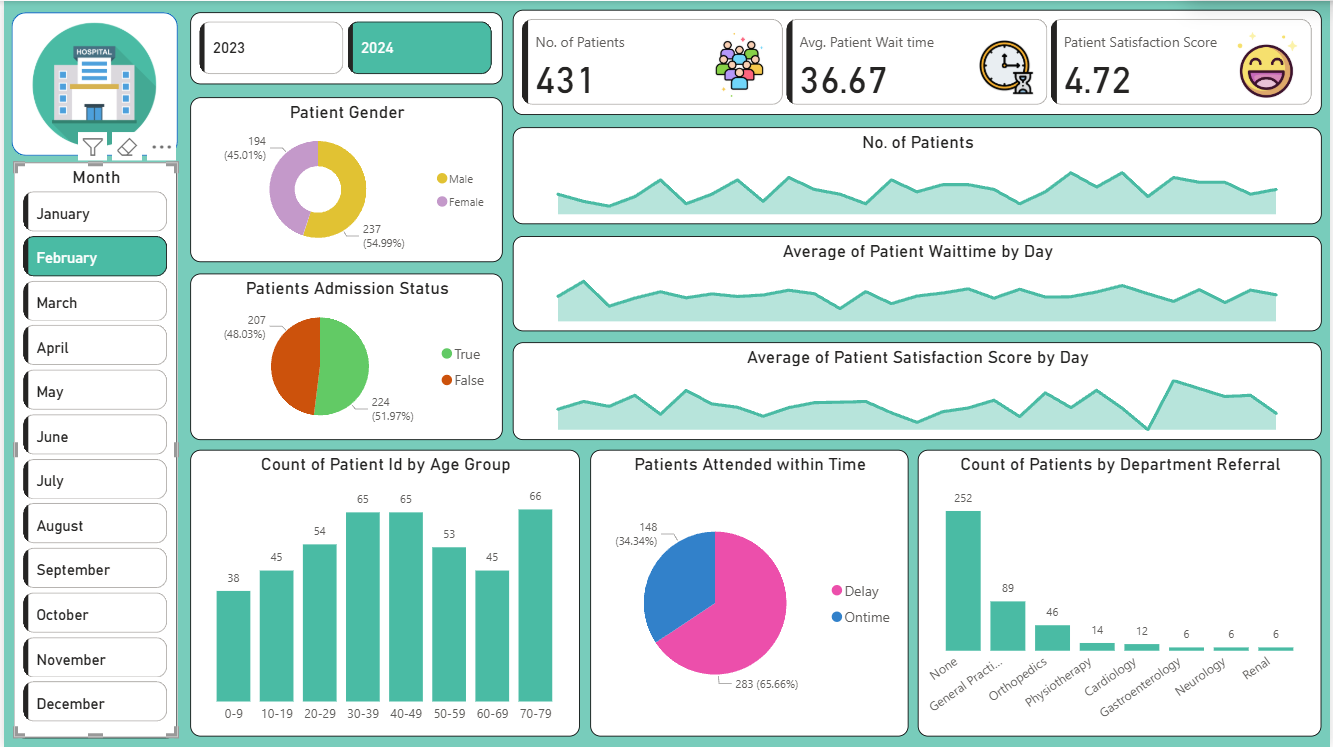

Layout of this report page (visuals, bound fields, positions):
{"tool":"powerbi","page":{"name":"Page 1","canvas":[1280,720],"ordinal":0},"visuals":[{"type":"shape","box":[6.9,11,160.5,138.6],"z":0},{"type":"image","box":[5.5,11,161.9,140],"z":1000},{"type":"advancedSlicerVisual","fields":{"Values":["Hospital Emergency Room Data (1).Patient Admission Date.Variation.Date Hierarchy.Year"]},"box":[179.8,11,301.9,70],"z":2000},{"type":"advancedSlicerVisual","fields":{"Values":["Hospital Emergency Room Data (1).Patient Admission Date.Variation.Date Hierarchy.Month"]},"box":[9.6,155.1,157.8,555.7],"z":3000},{"type":"clusteredColumnChart","title":"Count of Patients by Department Referral","fields":{"Category":["Hospital Emergency Room Data (1).Department Referral"],"Y":["CountNonNull(Hospital Emergency Room Data (1).Department Referral)"]},"box":[882.3,433.6,389.7,277.2],"z":4000},{"type":"donutChart","title":"Patient Gender","fields":{"Category":["Hospital Emergency Room Data (1).Patient Gender"],"Y":["CountNonNull(Hospital Emergency Room Data (1).Patient Gender)"]},"box":[179.8,93.3,301.9,159.2],"z":5000},{"type":"cardVisual","fields":{"Data":["Hospital Emergency Room Data (1).No. of Patients","Avg(Hospital Emergency Room Data (1).Patient Waittime)","Avg(Hospital Emergency Room Data (1).Patient Satisfaction Score)"]},"box":[491.3,8.2,780.8,101.5],"z":6000},{"type":"areaChart","title":"No. of Patients","fields":{"Y":["Hospital Emergency Room Data (1).No. of Patients"],"Category":["Hospital Emergency Room Data (1).Patient Admission Date.Variation.Date Hierarchy.Month","Hospital Emergency Room Data (1).Patient Admission Date.Variation.Date Hierarchy.Day"]},"box":[491.3,122.1,780.8,93.3],"z":6001},{"type":"areaChart","fields":{"Category":["Hospital Emergency Room Data (1).Patient Admission Date.Variation.Date Hierarchy.Day"],"Y":["Avg(Hospital Emergency Room Data (1).Patient Waittime)"]},"box":[491.3,226.4,780.8,91.9],"z":6002},{"type":"areaChart","fields":{"Category":["Hospital Emergency Room Data (1).Patient Admission Date.Variation.Date Hierarchy.Day"],"Y":["Avg(Hospital Emergency Room Data (1).Patient Satisfaction Score)"]},"box":[491.3,329.3,780.8,94.7],"z":6003},{"type":"pieChart","title":"Patients Admission Status","fields":{"Category":["Hospital Emergency Room Data (1).Patient Admission Flag"],"Y":["CountNonNull(Hospital Emergency Room Data (1).Patient Admission Flag)"]},"box":[179.8,263.5,301.9,160.5],"z":6004},{"type":"clusteredColumnChart","fields":{"Category":["Hospital Emergency Room Data (1).Age Group"],"Y":["CountNonNull(Hospital Emergency Room Data (1).Patient Id)"]},"box":[179.8,433.6,376,277.2],"z":6005},{"type":"pieChart","title":"Patients Attended within Time","fields":{"Category":["Hospital Emergency Room Data (1).Attendance Status"],"Y":["CountNonNull(Hospital Emergency Room Data (1).Attendance Status)"]},"box":[565.4,433.6,307.4,277.2],"z":6006}]}

Visuals, with their boxes in screenshot pixels (x1, y1, x2, y2), scaled from the page's 1280x720 canvas onto the 1333x747 screenshot:
shape: l=7, t=11, r=174, b=155
image: l=6, t=11, r=174, b=157
advancedSlicerVisual - Hospital Emergency Room Data (1).Patient Admission Date.Variation.Date Hierarchy.Year: l=187, t=11, r=502, b=84
advancedSlicerVisual - Hospital Emergency Room Data (1).Patient Admission Date.Variation.Date Hierarchy.Month: l=10, t=161, r=174, b=737
"Count of Patients by Department Referral" clusteredColumnChart: l=919, t=450, r=1325, b=737
"Patient Gender" donutChart: l=187, t=97, r=502, b=262
cardVisual - Hospital Emergency Room Data (1).No. of Patients x Avg(Hospital Emergency Room Data (1).Patient Waittime): l=512, t=9, r=1325, b=114
"No. of Patients" areaChart: l=512, t=127, r=1325, b=223
areaChart - Hospital Emergency Room Data (1).Patient Admission Date.Variation.Date Hierarchy.Day x Avg(Hospital Emergency Room Data (1).Patient Waittime): l=512, t=235, r=1325, b=330
areaChart - Hospital Emergency Room Data (1).Patient Admission Date.Variation.Date Hierarchy.Day x Avg(Hospital Emergency Room Data (1).Patient Satisfaction Score): l=512, t=342, r=1325, b=440
"Patients Admission Status" pieChart: l=187, t=273, r=502, b=440
clusteredColumnChart - Hospital Emergency Room Data (1).Age Group x CountNonNull(Hospital Emergency Room Data (1).Patient Id): l=187, t=450, r=579, b=737
"Patients Attended within Time" pieChart: l=589, t=450, r=909, b=737
